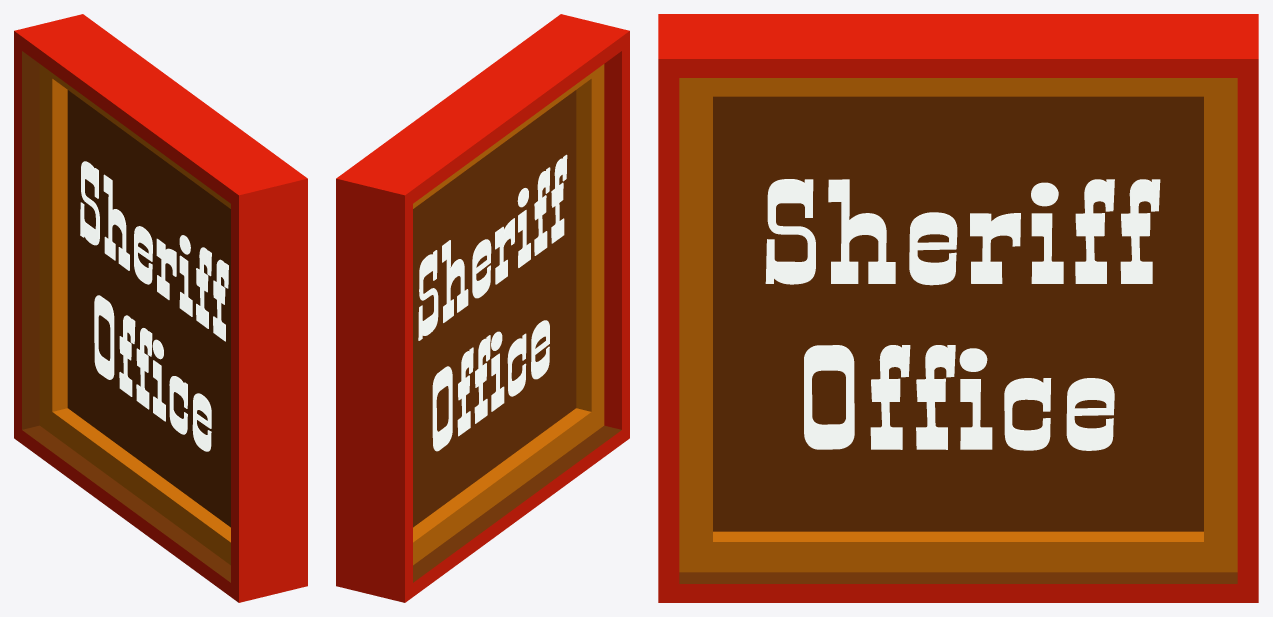
Rendered from sherifftitle.glb.
3 renders of one model, left to right at view 1: azimuth 30°, elevation 25°; view 2: azimuth 150°, elevation 25°; view 3: azimuth 270°, elevation 25°, orthographic. The views are drawn at different scales.
Parts seen in each view (by area): view 1: Cube, Cube.001, Text.001; view 2: Cube, Cube.001, Text.001; view 3: Cube.001, Cube, Text.
Part boxes in pixels (x1,y1,x2,y2): Cube: [48, 14, 307, 593]; Cube.001: [14, 22, 274, 602]; Text.001: [80, 161, 228, 451]; Cube: [336, 14, 595, 593]; Cube.001: [369, 22, 629, 602]; Text.001: [418, 154, 567, 451]; Cube.001: [658, 14, 1258, 531]; Cube: [658, 35, 1258, 602]; Text: [765, 179, 1160, 450].
Bounding box in the file's own units: 0.7792 × 4.4 × 4.4.
